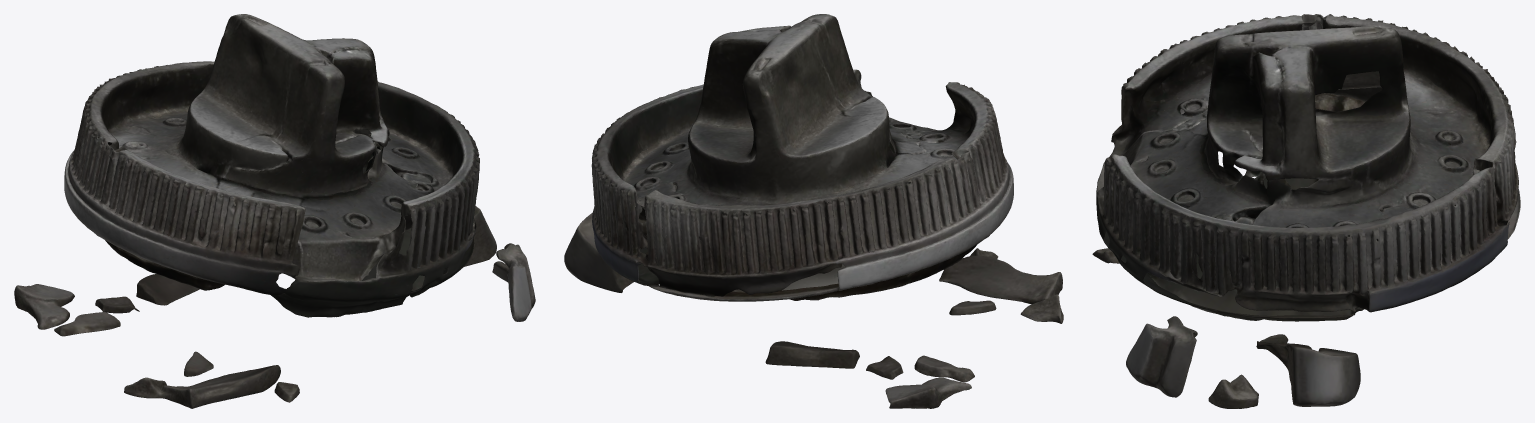
The model's file is tv_dial.glb.
The picture shows the model from 3 angles, left to right: view 1: azimuth 30°, elevation 25°; view 2: azimuth 150°, elevation 25°; view 3: azimuth 270°, elevation 25°; orthographic projection. The views are drawn at different scales.
Parts seen in each view (by area): view 1: world; view 2: world; view 3: world.
Part boxes in pixels (x1,y1,x2,y2): world: [14, 14, 535, 408]; world: [564, 14, 1063, 408]; world: [1092, 14, 1520, 408].
Size of the model in its own units: 1 by 0.5955 by 0.8437.
Materials: 1 (1 with a texture image).
